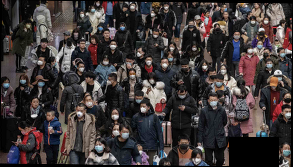with_mask: (191, 156, 202, 166), (121, 129, 130, 141), (94, 143, 104, 153), (110, 111, 120, 121), (179, 141, 189, 151), (112, 127, 121, 138), (37, 78, 46, 88), (76, 109, 85, 119), (140, 104, 148, 115), (209, 99, 218, 108), (19, 77, 27, 86), (36, 58, 45, 66), (85, 99, 93, 108), (128, 72, 137, 80), (102, 59, 111, 67), (215, 80, 224, 88), (266, 61, 274, 70), (284, 95, 292, 104), (145, 58, 153, 66), (178, 92, 186, 100), (161, 61, 169, 69), (218, 95, 226, 103), (256, 42, 264, 50), (136, 50, 143, 59), (220, 67, 227, 76), (134, 98, 144, 104), (3, 81, 10, 89), (78, 65, 85, 73), (106, 78, 113, 86), (109, 43, 117, 50), (103, 32, 111, 39), (125, 60, 133, 67), (209, 72, 216, 80), (275, 75, 283, 82), (270, 84, 278, 91), (285, 110, 291, 119), (19, 129, 26, 136), (167, 56, 174, 63), (130, 4, 137, 11), (188, 22, 195, 29), (202, 64, 209, 71), (234, 34, 241, 41), (259, 30, 266, 37), (263, 51, 270, 58), (26, 22, 32, 30), (138, 148, 144, 156), (181, 66, 189, 72), (248, 47, 254, 55), (280, 50, 286, 58), (66, 41, 73, 47), (80, 11, 86, 18), (98, 25, 104, 32), (119, 25, 126, 31), (149, 78, 155, 85), (169, 45, 175, 52), (153, 33, 160, 39), (150, 11, 156, 18), (191, 46, 198, 52), (53, 60, 58, 68), (73, 32, 79, 38), (163, 4, 169, 10), (205, 12, 211, 18), (194, 3, 200, 9), (250, 19, 256, 25), (263, 19, 269, 25), (91, 6, 96, 13), (96, 1, 101, 7), (213, 3, 218, 9), (223, 6, 228, 12), (249, 13, 254, 19), (276, 42, 281, 47)
without_mask: (31, 99, 40, 108), (79, 42, 87, 50), (46, 113, 53, 122), (41, 41, 48, 49), (63, 34, 70, 41), (85, 77, 91, 84), (90, 38, 96, 45), (223, 13, 229, 19), (215, 26, 221, 32), (195, 19, 201, 24), (254, 3, 259, 9), (122, 7, 126, 13)
